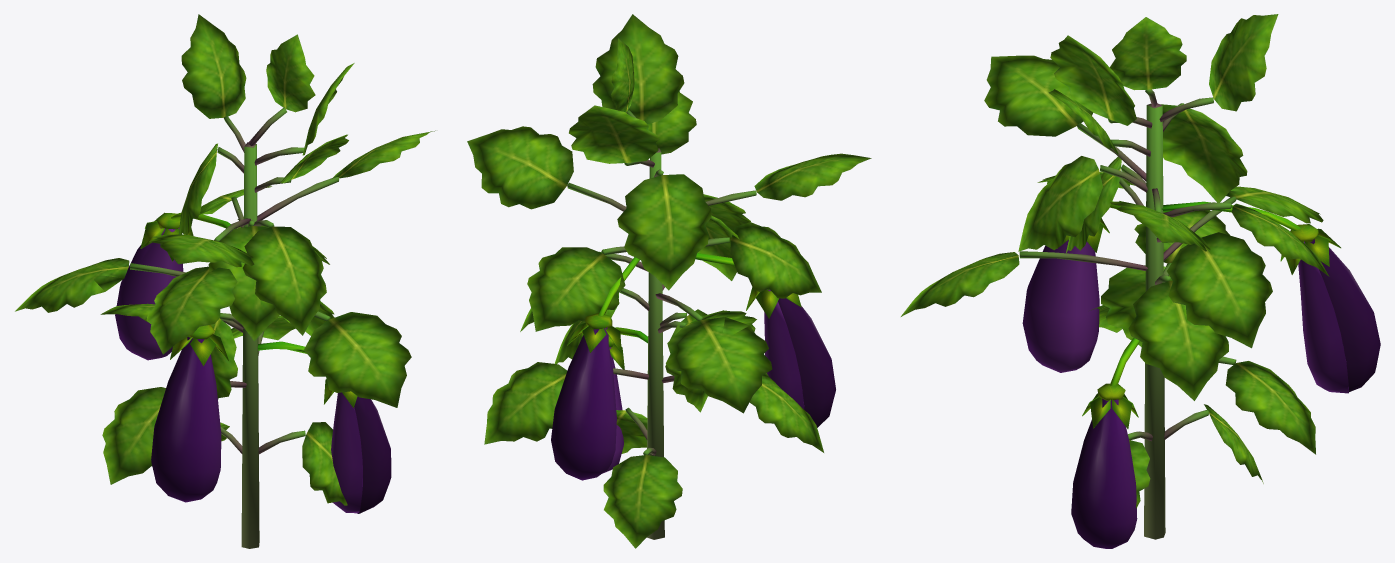
File: NP_Eggplant_Ready_LOD1.fbx
3 renders of one model, left to right at view 1: azimuth 30°, elevation 25°; view 2: azimuth 150°, elevation 25°; view 3: azimuth 270°, elevation 25°, orthographic. The views are drawn at different scales.
Parts seen in each view (by area): view 1: NP_Eggplant_Ready; view 2: NP_Eggplant_Ready; view 3: NP_Eggplant_Ready.
Part boxes in pixels (left/top/right/bottom): NP_Eggplant_Ready: left=15, top=14, right=435, bottom=548; NP_Eggplant_Ready: left=467, top=14, right=871, bottom=548; NP_Eggplant_Ready: left=901, top=14, right=1380, bottom=548.
Size of the model in its own units: 94.72 by 128 by 103.
